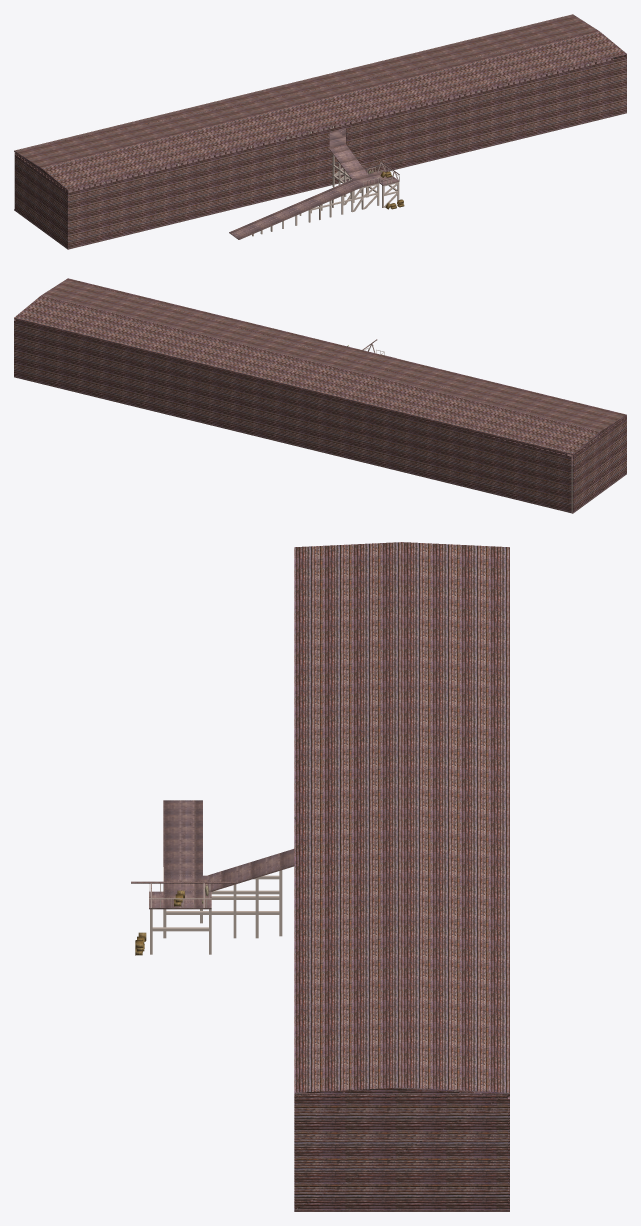
File: arche-de-noe.fbx
3 views of the same model, one above another, from view 1: azimuth 30°, elevation 25°; view 2: azimuth 150°, elevation 25°; view 3: azimuth 270°, elevation 25° (orthographic). The views are drawn at different scales.
Visible parts, largest first — view 1: Arche OK; view 2: Arche OK; view 3: Arche OK.
Boxes of the visible parts, x1,y1,x2,y2 form: Arche OK: (14, 14, 626, 249); Arche OK: (14, 278, 626, 513); Arche OK: (131, 542, 509, 1211).
Size of the model in its own units: 1.34e+07 by 1424257 by 3921040.
